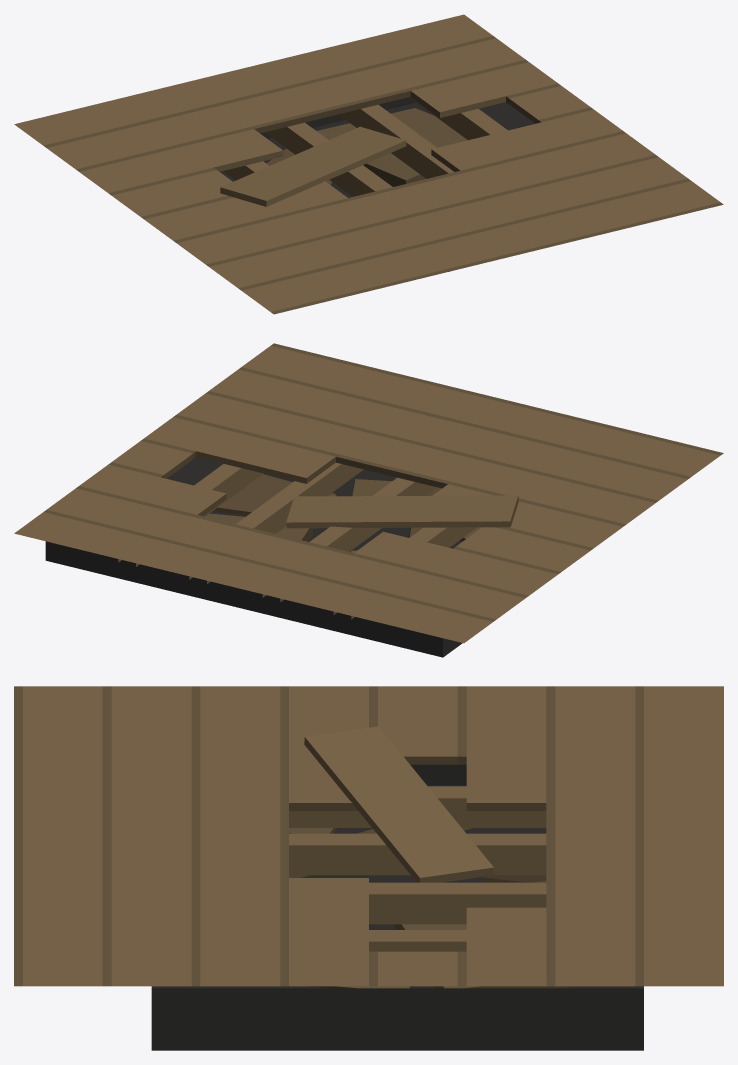
The model's file is AI_Env_Floor_02_Hole_Small.fbx.
The picture shows the model from 3 angles, top to bottom: view 1: azimuth 30°, elevation 25°; view 2: azimuth 150°, elevation 25°; view 3: azimuth 270°, elevation 25°; orthographic projection. The views are drawn at different scales.
Visible parts, largest first — view 1: AI_Env_Floor_02_Hole_Small; view 2: AI_Env_Floor_02_Hole_Small; view 3: AI_Env_Floor_02_Hole_Small.
Part boxes in pixels (x1,y1,x2,y2): AI_Env_Floor_02_Hole_Small: (14,14,723,314); AI_Env_Floor_02_Hole_Small: (14,343,723,657); AI_Env_Floor_02_Hole_Small: (14,686,723,1050).
Size of the model in its own units: 5 by 0.6315 by 5.
